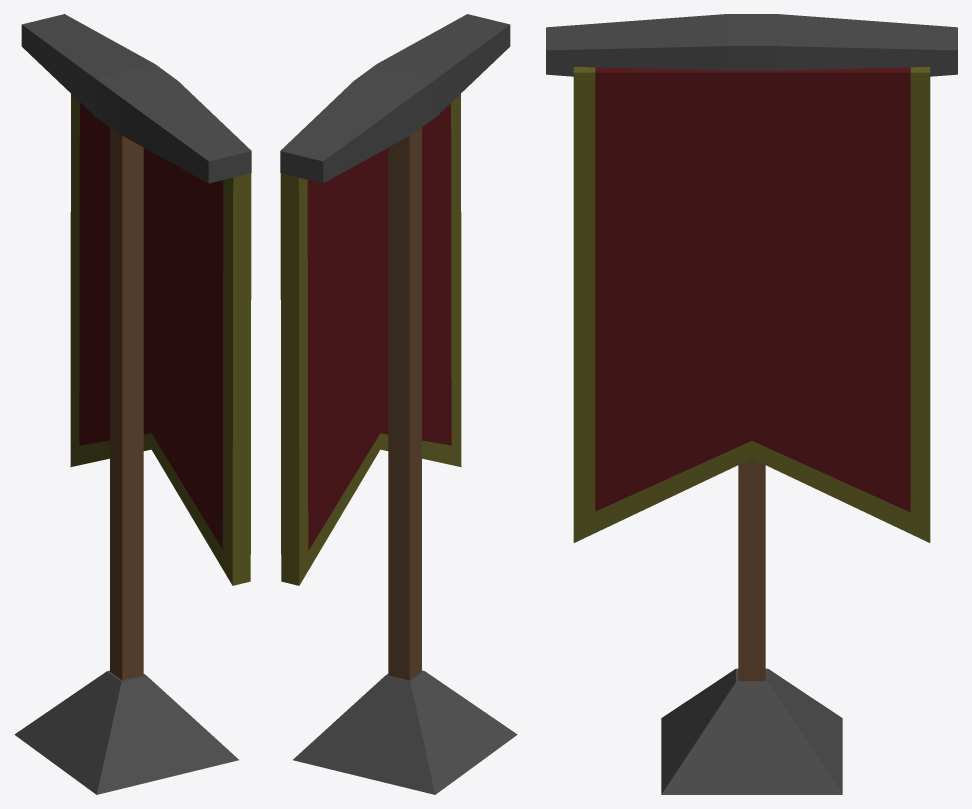
Rendered from banner.fbx.
3 renders of one model, left to right at view 1: azimuth 30°, elevation 25°; view 2: azimuth 150°, elevation 25°; view 3: azimuth 270°, elevation 25°, orthographic. The views are drawn at different scales.
Visible parts, largest first — view 1: Plane, Cube, Cube.001; view 2: Plane, Cube, Cube.001; view 3: Plane, Cube, Cube.001.
Part boxes in pixels (left/top/right/bottom): Plane: left=70, top=94, right=251, bottom=585; Cube: left=21, top=14, right=251, bottom=680; Cube.001: left=14, top=670, right=238, bottom=794; Plane: left=280, top=94, right=461, bottom=585; Cube: left=280, top=14, right=510, bottom=680; Cube.001: left=293, top=670, right=517, bottom=794; Plane: left=573, top=67, right=930, bottom=542; Cube: left=546, top=14, right=957, bottom=680; Cube.001: left=661, top=668, right=842, bottom=794.
Size of the model in its own units: 102 by 453 by 231.
